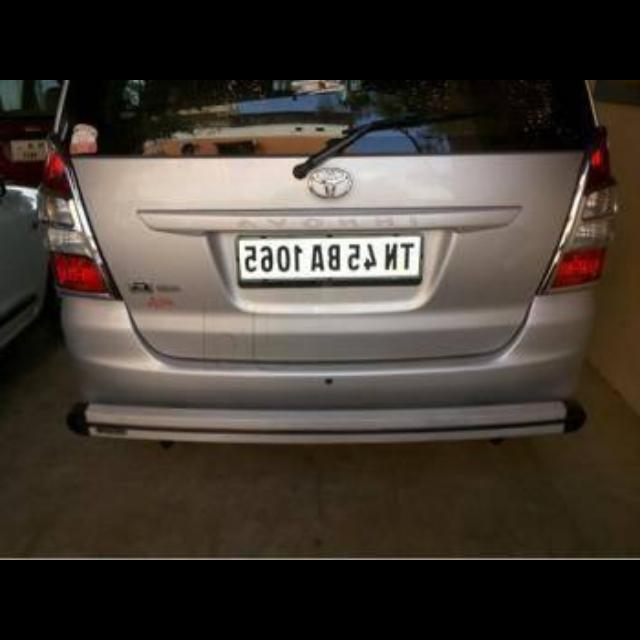vehicles: (51, 80, 605, 460)
